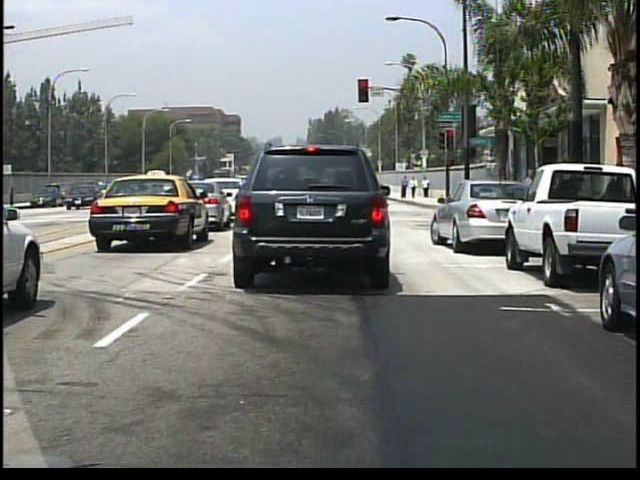person: (422, 174, 432, 200), (400, 174, 409, 199), (410, 175, 418, 200)
